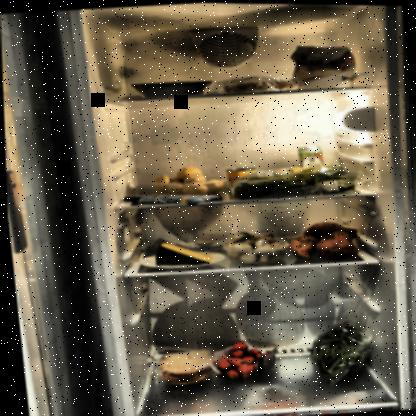cheese: (150, 238, 210, 268)
chocolate: (118, 187, 224, 209)
corn: (222, 165, 259, 199)
green_beans: (306, 318, 377, 387)
heavy_cream: (296, 142, 326, 187)
mushrooms: (222, 227, 286, 265)
potato: (147, 162, 229, 197)
shrimp: (220, 77, 297, 95)
spinach: (227, 161, 359, 200)
strawberries: (209, 337, 280, 383)
sweet_potato: (285, 216, 368, 263)
